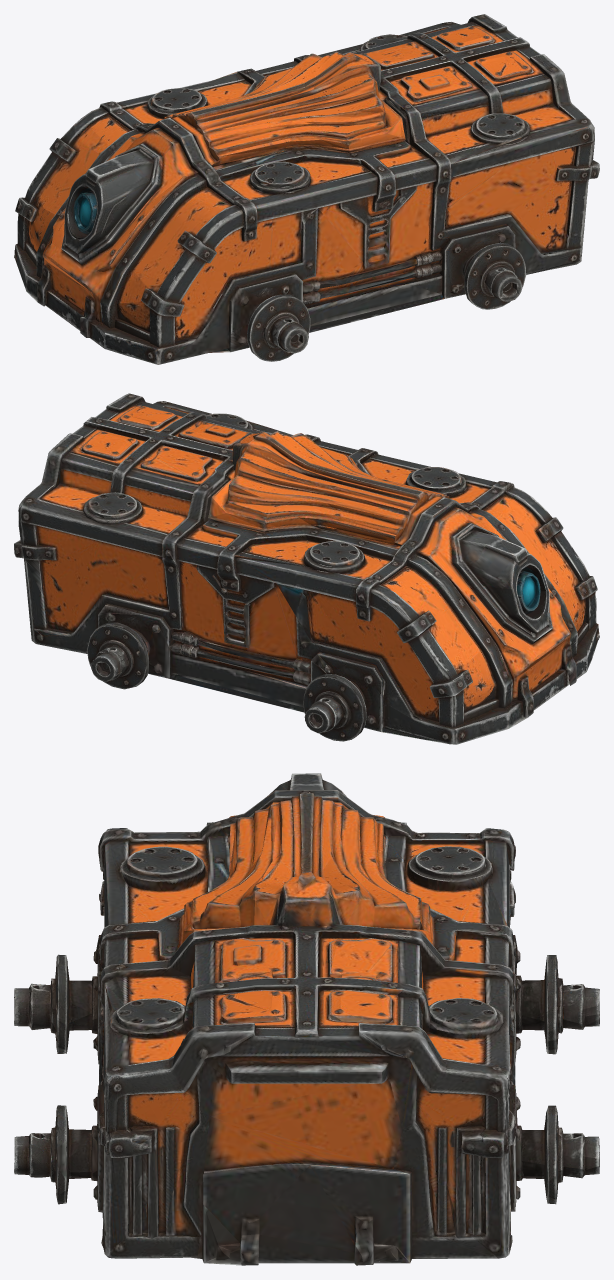
Rendered from sovereign.glb.
3 renders of one model, top to bottom at view 1: azimuth 30°, elevation 25°; view 2: azimuth 150°, elevation 25°; view 3: azimuth 270°, elevation 25°, orthographic. The views are drawn at different scales.
Parts seen in each view (by area): view 1: Mesh_0; view 2: Mesh_0; view 3: Mesh_0.
Boxes of the visible parts, <box> form: Mesh_0: <box>14,14,599,364</box>; Mesh_0: <box>14,393,599,744</box>; Mesh_0: <box>14,773,599,1265</box>.
Bounding box in the file's own units: 1.96 × 0.8 × 1.48.
1 material, 1 textured.
